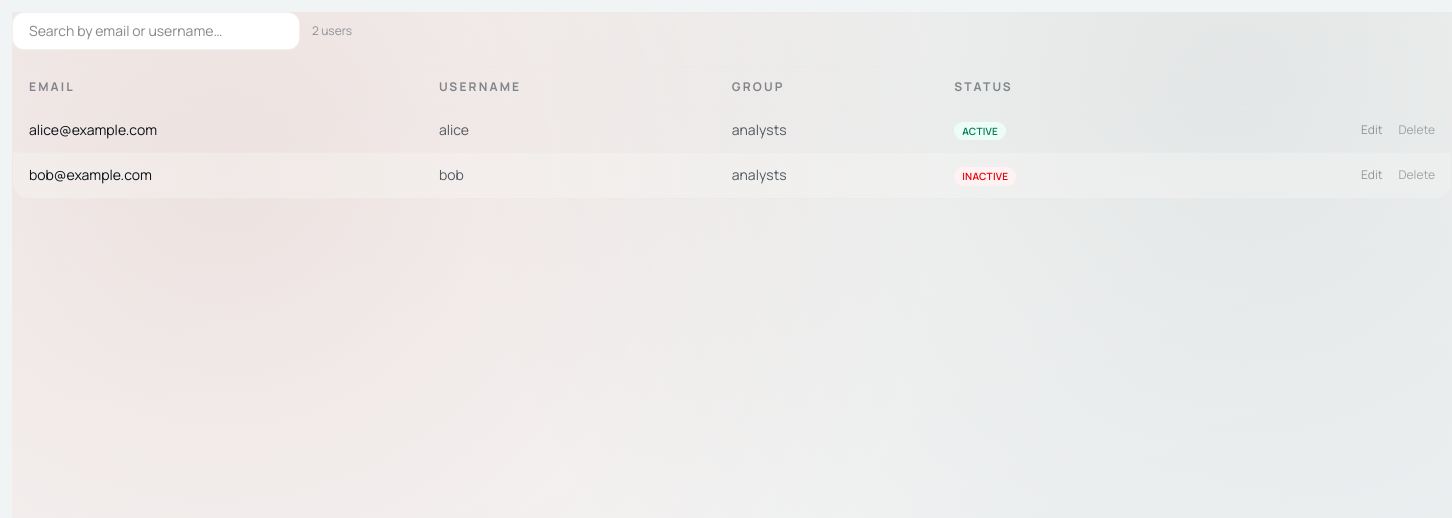
it: UsersPanel – search › filters users by username substring
The image size is (1452, 518).
Expected: the text "alice@example.com" is shown, [13,108,423,153]
Type "bob" into the field with placeholder "Search by email or username…".
click(156, 31); type("bob")  # box [12,12,300,50]
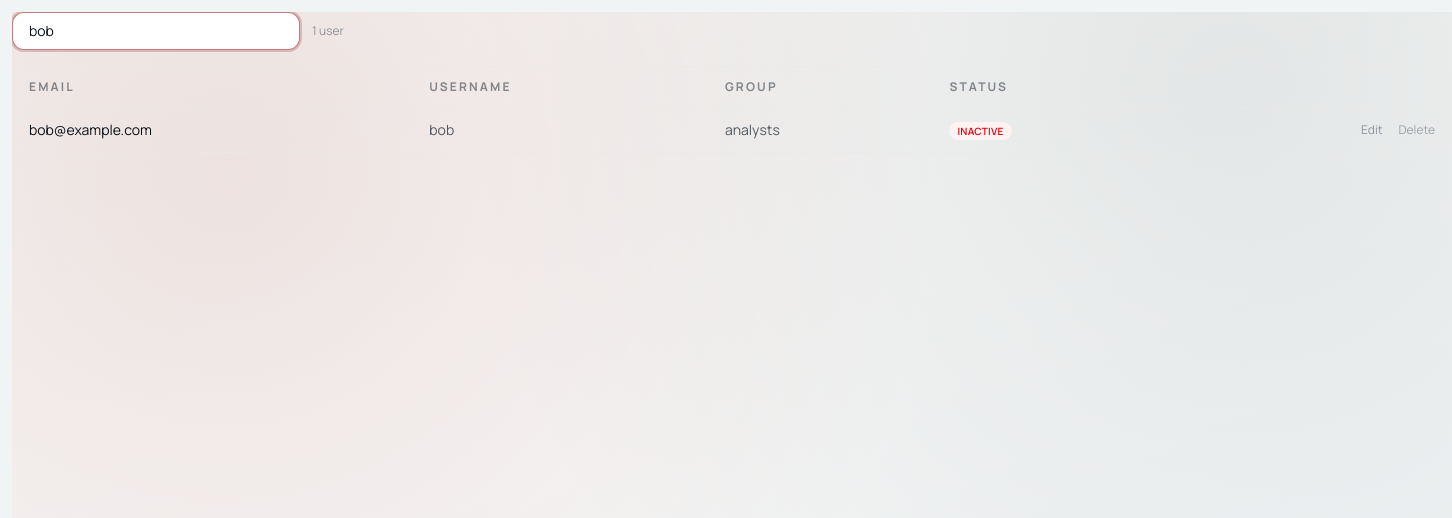
Expected: the text "bob@example.com" is shown, [13,108,413,152]
Expected: the text "alice@example.com" is gone
